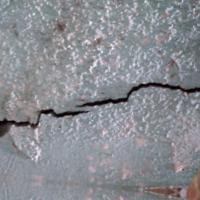crack: (2, 66, 199, 135)
